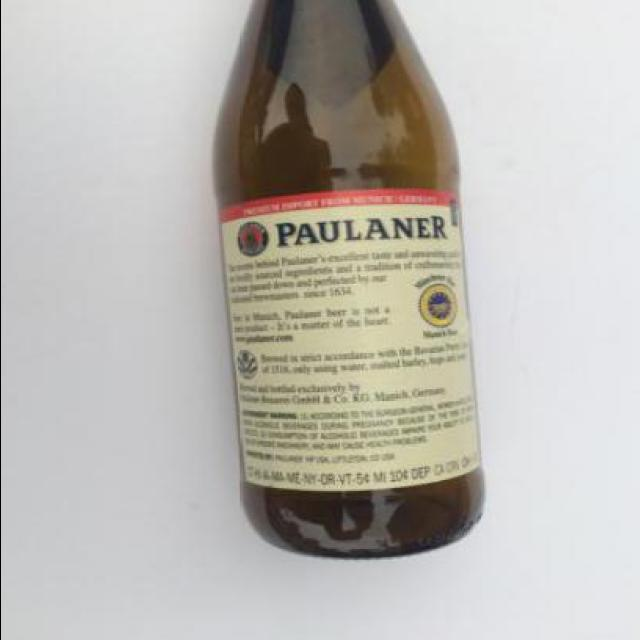kaca: (212, 0, 485, 555)
